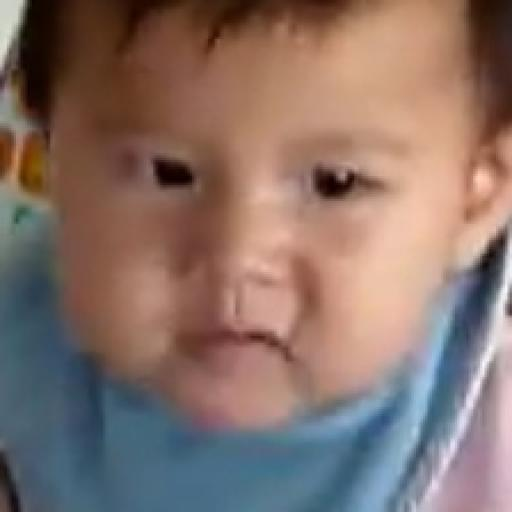Autism: (36, 0, 486, 459)
